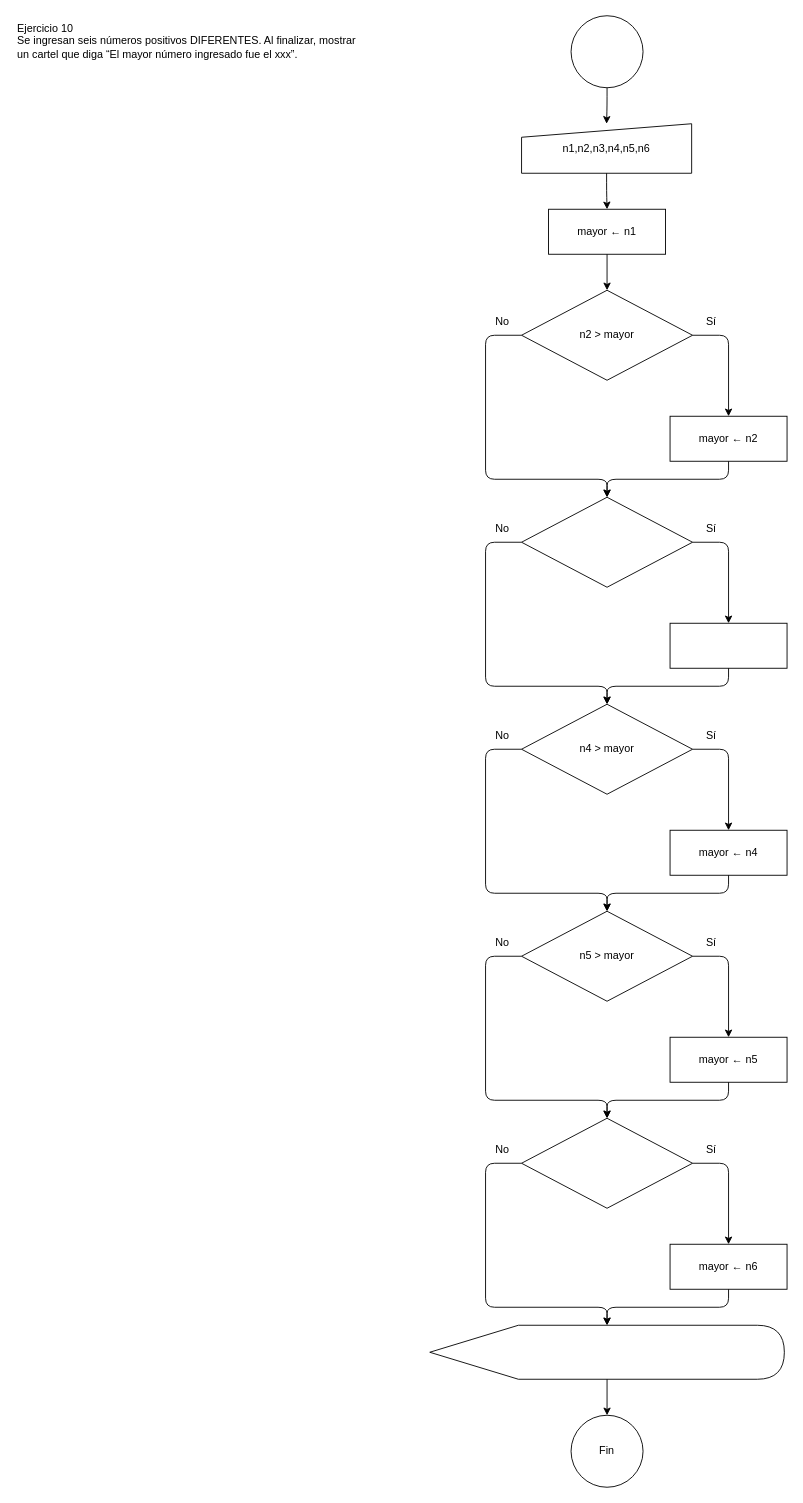
Some shapes in this 803 by 1503 pixel diagram are drawn without their labels. Each missing label, with the centre of its shape:
"El mayor número ingresado fue el ", mayor: point 606,1351
Inicio: point 606,51
mayor ← n3: point 728,645
n3 > mayor: point 607,541
n6 > mayor: point 607,1162
